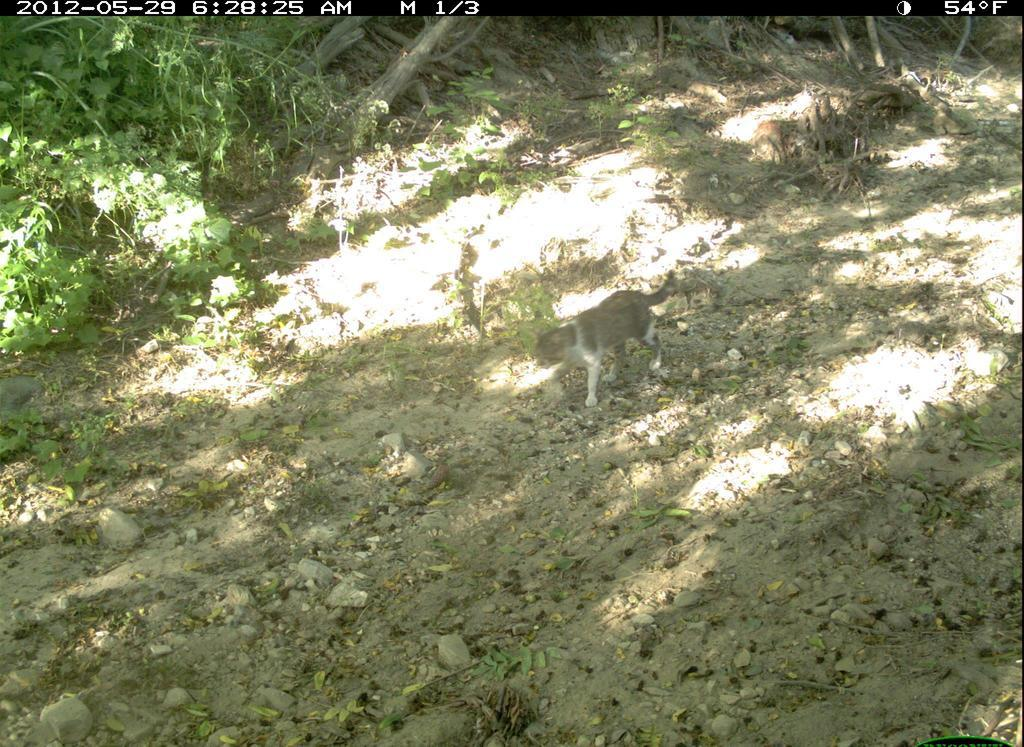cat: (532, 267, 680, 411)
